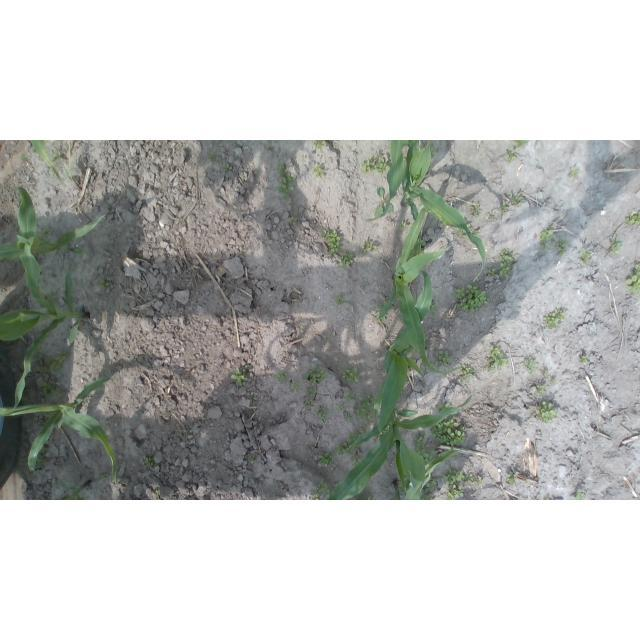Maize: (1, 237, 88, 415), (329, 396, 471, 500), (377, 206, 459, 376), (1, 376, 120, 481), (400, 140, 486, 280), (372, 268, 432, 434), (0, 189, 106, 257), (393, 450, 462, 500), (369, 140, 407, 220), (29, 140, 73, 182), (59, 480, 90, 500)
Weeds: (431, 417, 466, 449), (32, 352, 69, 377), (456, 284, 488, 312), (276, 165, 297, 200), (355, 396, 380, 424), (360, 150, 389, 173), (374, 187, 394, 219), (488, 345, 509, 372), (323, 229, 342, 256), (535, 402, 558, 424), (500, 248, 515, 280), (543, 308, 567, 328), (304, 365, 329, 384), (43, 381, 66, 400), (312, 478, 331, 500), (540, 225, 556, 251), (627, 264, 640, 293), (436, 349, 456, 367), (444, 468, 465, 485), (231, 369, 249, 388), (341, 366, 360, 384), (413, 431, 426, 455), (447, 484, 465, 500), (609, 236, 623, 255), (578, 248, 591, 268), (39, 228, 55, 244), (336, 442, 353, 457), (460, 364, 474, 382), (525, 358, 538, 377), (319, 453, 335, 468), (360, 239, 376, 254), (339, 252, 354, 268), (421, 449, 435, 466), (625, 212, 640, 227), (49, 147, 63, 163), (311, 165, 326, 179), (97, 279, 112, 293), (466, 473, 483, 485), (425, 478, 438, 493), (47, 293, 60, 308), (557, 240, 568, 257), (35, 448, 45, 465), (317, 408, 330, 421), (504, 149, 516, 163), (312, 140, 328, 150), (512, 193, 525, 205), (291, 380, 302, 393), (430, 301, 439, 316), (276, 372, 288, 383), (506, 473, 517, 485), (536, 385, 547, 396), (207, 152, 217, 164), (500, 202, 512, 212), (344, 391, 356, 401), (470, 203, 480, 215), (514, 140, 528, 148), (437, 403, 451, 411), (348, 433, 358, 444), (145, 456, 154, 468), (568, 168, 578, 178), (287, 215, 297, 225), (99, 472, 110, 481), (306, 388, 317, 397), (377, 301, 388, 309), (344, 412, 353, 421), (400, 222, 409, 231), (578, 356, 588, 364), (354, 457, 361, 468), (21, 156, 29, 165), (248, 454, 256, 463), (356, 428, 364, 437), (576, 492, 585, 500), (488, 268, 497, 276), (419, 493, 429, 500), (336, 296, 344, 304), (336, 404, 344, 412), (377, 315, 387, 321), (305, 400, 316, 405), (223, 164, 229, 173), (57, 476, 63, 485), (419, 240, 426, 247), (244, 364, 252, 370), (488, 212, 496, 218), (456, 228, 464, 234), (542, 368, 548, 376), (404, 158, 408, 167), (473, 231, 480, 236), (552, 379, 559, 383), (88, 336, 93, 341), (156, 490, 161, 495), (250, 396, 253, 403), (467, 224, 471, 229), (116, 476, 120, 481), (368, 496, 373, 500), (464, 235, 468, 239)
